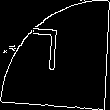L_S: (38, 28, 72, 82)
